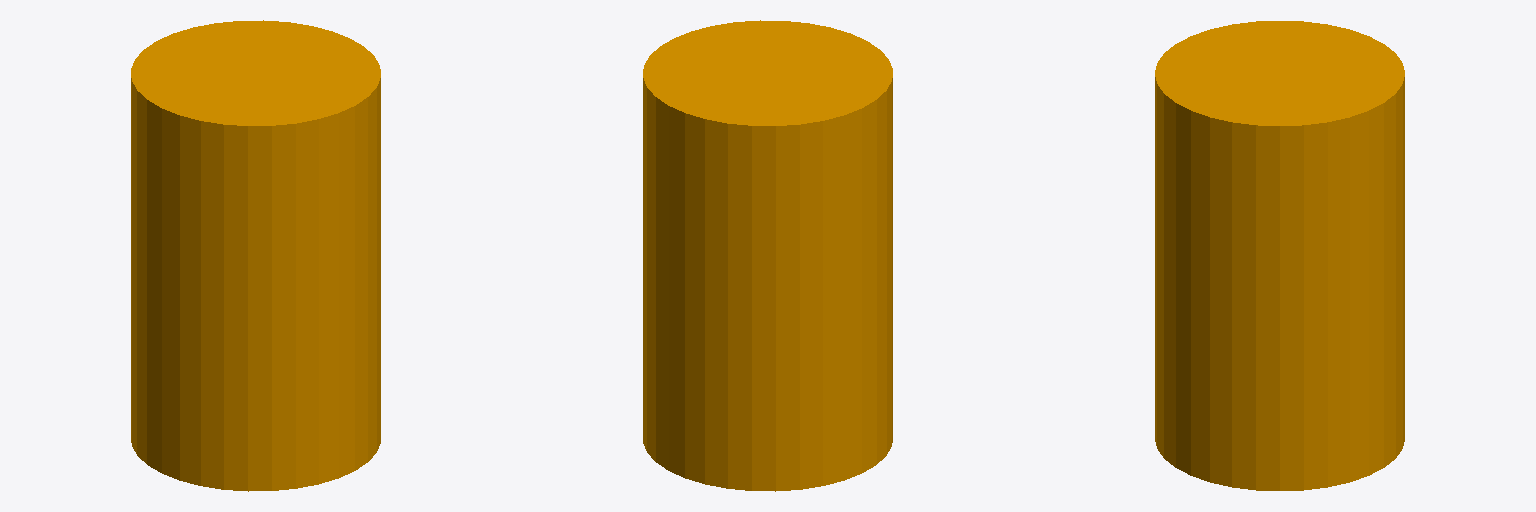
robot.urdf — object:
<?xml version="1.0"?>
<!-- Auto-generated by tools/gen_primitive_objects.py. kind=cyl dims=(0.028, 0.09) -->
<robot name="object">
  <link name="object">
    <visual>
      <origin xyz="0 0 0"/>
      <geometry>
        <cylinder radius="0.028000" length="0.090000"/>
      </geometry>
    </visual>
    <collision>
      <origin xyz="0 0 0"/>
      <geometry>
        <cylinder radius="0.028000" length="0.090000"/>
      </geometry>
    </collision>
    <inertial>
      <mass value="0.044334"/>
      <inertia ixx="0.00003862" ixy="0.0" ixz="0.0" iyy="0.00003862" iyz="0.0" izz="0.00001738"/>
    </inertial>
  </link>
</robot>

--- What the picture shows (computed from the rendered views, not written in the file) ---
The picture shows the robot from 3 angles, left to right: view 1: azimuth 30°, elevation 25°; view 2: azimuth 150°, elevation 25°; view 3: azimuth 270°, elevation 25°; orthographic projection.
Robot: object — 1 links, 0 joints (none); root link object; default pose: all joints at 0.
Links seen in each view (by area): view 1: object; view 2: object; view 3: object.
Link boxes in pixels (<box>): object: <box>131,20,380,491</box>; object: <box>643,20,892,491</box>; object: <box>1155,21,1404,490</box>.
Bounding box of the posed robot: 0.056 × 0.056 × 0.09 m (x, y, z).
Geometry: primitives only (box / cylinder / sphere), no mesh files.
